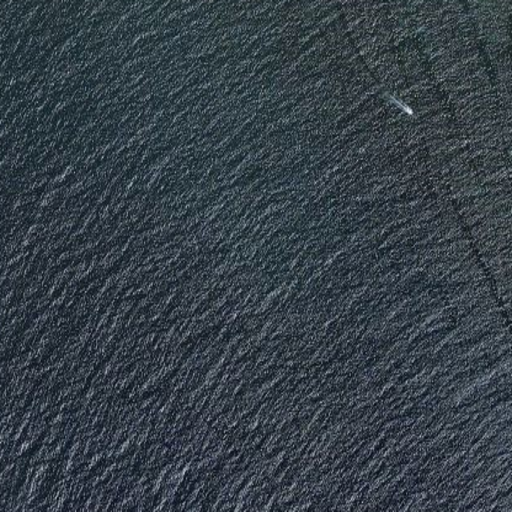ship: (401, 105, 413, 116)
